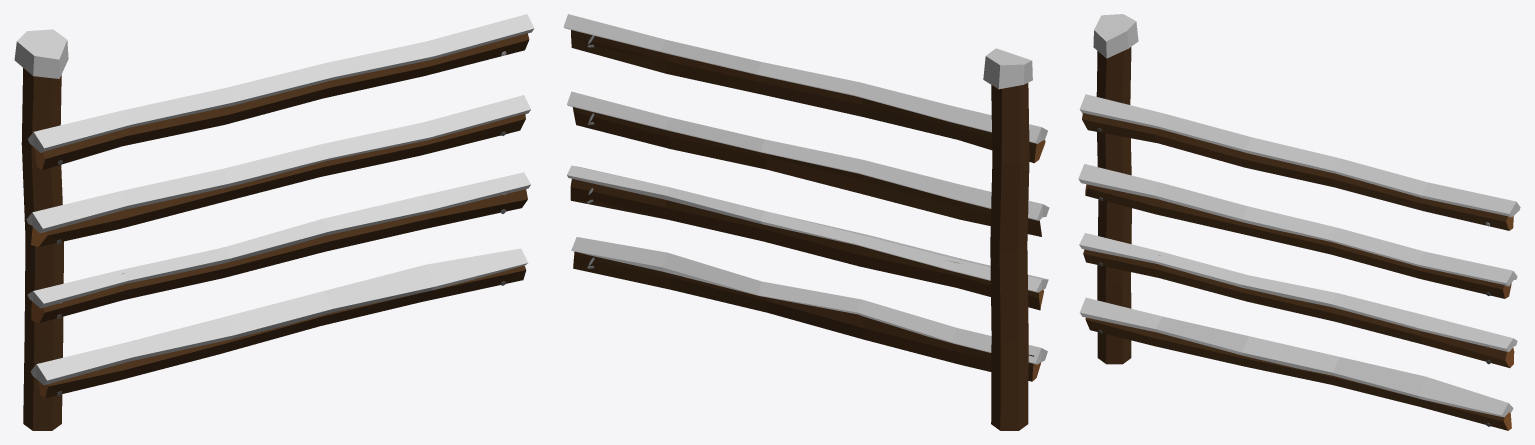
File: wooden_fence_normal.fbx
3 views of the same model, side by side, from view 1: azimuth 30°, elevation 25°; view 2: azimuth 150°, elevation 25°; view 3: azimuth 330°, elevation 25° (orthographic). The views are drawn at different scales.
Parts seen in each view (by area): view 1: fence1_LOD0, fence_pilar2_LOD0; view 2: fence1_LOD0, fence_pilar2_LOD0; view 3: fence1_LOD0, fence_pilar2_LOD0.
Part boxes in pixels (x1,y1,x2,y2): fence1_LOD0: (26,14,534,398); fence_pilar2_LOD0: (14,29,68,430); fence1_LOD0: (563,14,1049,381); fence_pilar2_LOD0: (983,48,1032,430); fence1_LOD0: (1078,94,1520,430); fence_pilar2_LOD0: (1093,14,1138,364).
Size of what is drawn, in the model's own units: 254 by 189 by 32.92.
